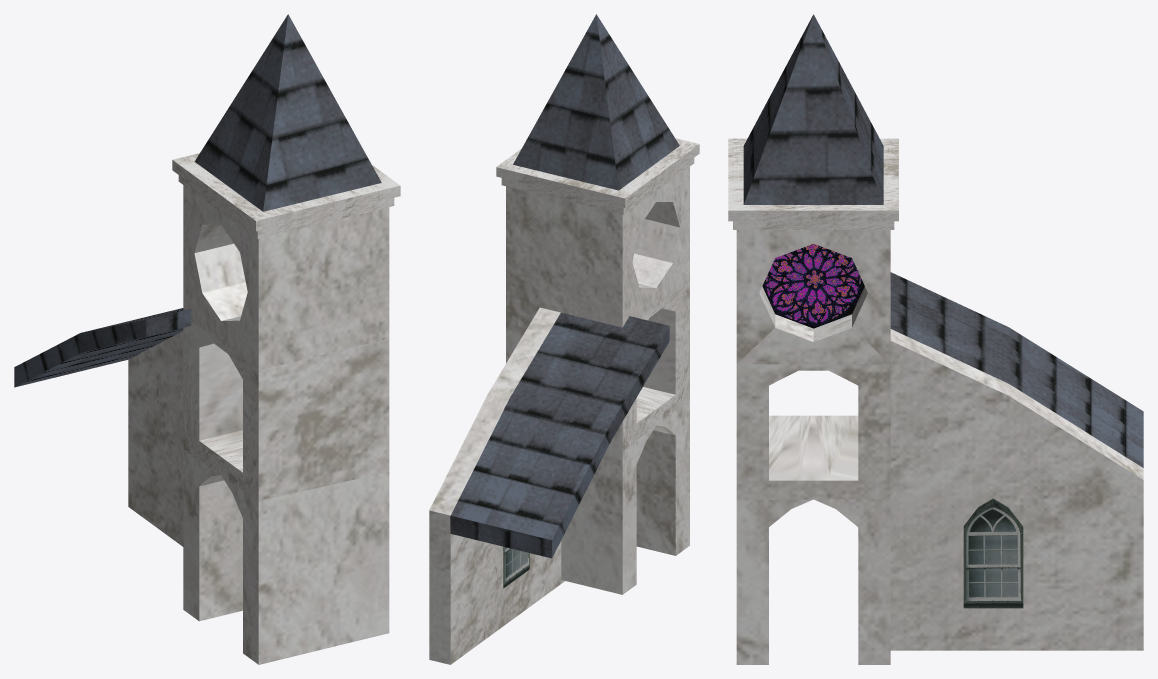
File: church.fbx
3 views of the same model, side by side, from view 1: azimuth 30°, elevation 25°; view 2: azimuth 150°, elevation 25°; view 3: azimuth 270°, elevation 25° (orthographic). The views are drawn at different scales.
Visible parts, largest first — view 1: Cube.003, Cube.009, Cube.010, Cube.006, Cube.008; view 2: Cube.003, Cube.008, Cube.010, Cube.009, Cube.006, Cube.011; view 3: Cube.010, Cube.003, Cube.009, Cube.008, Cube.006, Circle, Cube.011.
Boxes of the visible parts, <box> form: Cube.003: <box>183,185,389,664</box>; Cube.009: <box>194,14,381,211</box>; Cube.010: <box>128,331,183,546</box>; Cube.006: <box>172,153,400,239</box>; Cube.008: <box>14,308,191,387</box>; Cube.003: <box>506,167,689,594</box>; Cube.008: <box>450,312,669,558</box>; Cube.010: <box>429,307,564,664</box>; Cube.009: <box>513,14,679,190</box>; Cube.006: <box>496,138,699,214</box>; Cube.011: <box>503,546,529,588</box>; Cube.010: <box>890,329,1143,650</box>; Cube.003: <box>736,230,890,664</box>; Cube.009: <box>743,14,883,204</box>; Cube.008: <box>890,272,1143,467</box>; Cube.006: <box>728,138,898,229</box>; Circle: <box>762,243,864,328</box>; Cube.011: <box>963,498,1023,608</box>.
Bounding box in the file's own units: 481 × 1540 × 929.
